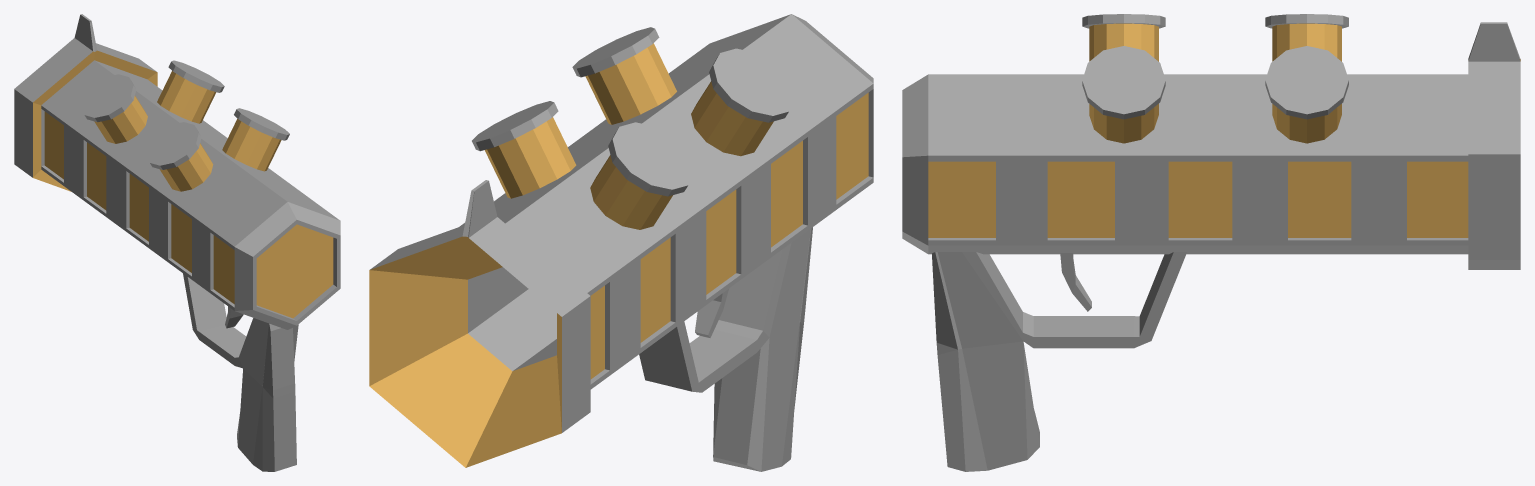
Rendered from Pistol.fbx.
The picture shows the model from 3 angles, left to right: view 1: azimuth 30°, elevation 25°; view 2: azimuth 150°, elevation 25°; view 3: azimuth 270°, elevation 25°; orthographic projection. The views are drawn at different scales.
Parts seen in each view (by area): view 1: Pistol; view 2: Pistol; view 3: Pistol.
Part boxes in pixels (box(x1,y1,x2,y2)): Pistol: box(14, 14, 340, 471); Pistol: box(369, 14, 873, 471); Pistol: box(902, 14, 1520, 471).
Size of the model in its own units: 222 by 487 by 622.
